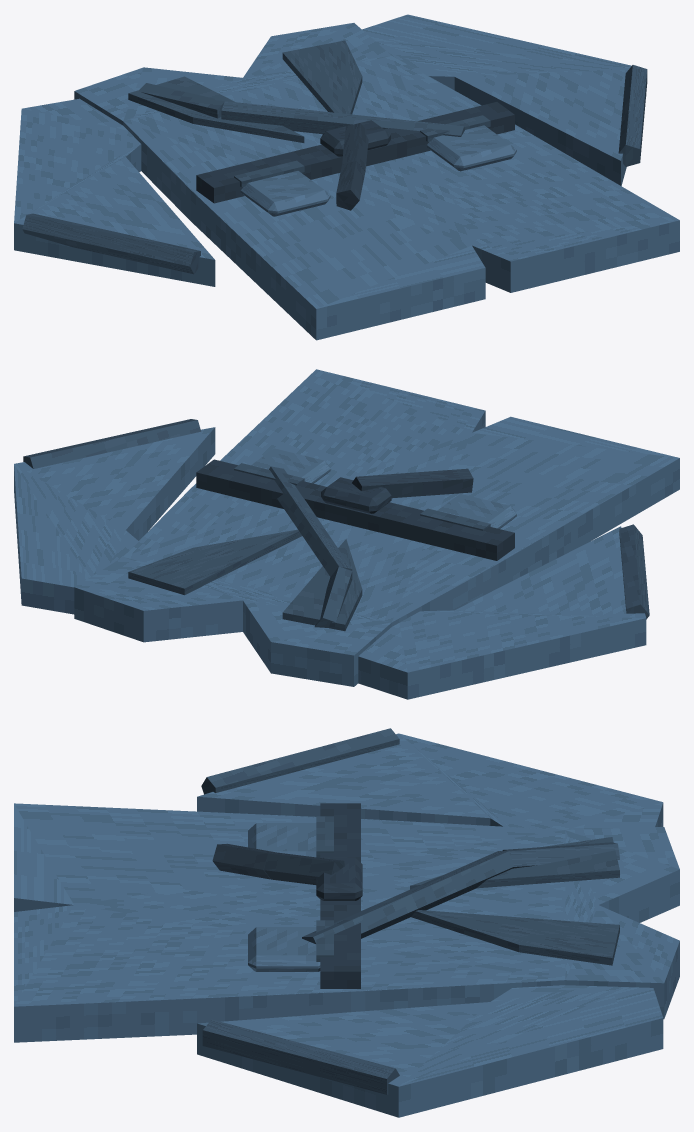
The model's file is yukata.glb.
3 renders of one model, top to bottom at view 1: azimuth 30°, elevation 25°; view 2: azimuth 150°, elevation 25°; view 3: azimuth 270°, elevation 25°, orthographic. The views are drawn at different scales.
Parts seen in each view (by area): view 1: block_coat body, block_sleeve (×2), block_lapel (×2), block_cuff 0 (×2), block_tied sash, block_patch pocket (×2), block_crossed lapel 1, block_pocket welt (×2), block_crossed lapel 0, block_sash knot, block_sash ends 1, block_sash ends 0; view 2: block_coat body, block_sleeve (×2), block_tied sash, block_lapel (×2), block_cuff 0 (×2), block_patch pocket (×2), block_crossed lapel 1, block_sash knot, block_sash ends 0, block_sash ends 1, block_crossed lapel 0, block_pocket welt (×2); view 3: block_coat body, block_sleeve (×2), block_lapel (×2), block_cuff 0 (×2), block_patch pocket (×2), block_crossed lapel 1, block_tied sash, block_sash ends 0, block_crossed lapel 0, block_sash knot, block_sash ends 1, block_pocket welt.
Part boxes in pixels (left/top/right/bottom): block_coat body: left=74, top=23, right=679, bottom=340; block_sleeve (×2): left=14, top=14, right=646, bottom=286; block_lapel (×2): left=128, top=40, right=362, bottom=142; block_cuff 0 (×2): left=22, top=65, right=647, bottom=274; block_tied sash: left=196, top=102, right=514, bottom=203; block_patch pocket (×2): left=240, top=125, right=516, bottom=216; block_crossed lapel 1: left=221, top=101, right=465, bottom=136; block_pocket welt (×2): left=234, top=115, right=490, bottom=187; block_crossed lapel 0: left=138, top=83, right=224, bottom=118; block_sash knot: left=320, top=120, right=390, bottom=156; block_sash ends 1: left=336, top=161, right=365, bottom=210; block_sash ends 0: left=342, top=123, right=368, bottom=171; block_coat body: left=74, top=369, right=679, bottom=686; block_sleeve (×2): left=14, top=427, right=646, bottom=699; block_tied sash: left=196, top=459, right=514, bottom=560; block_lapel (×2): left=128, top=529, right=362, bottom=631; block_cuff 0 (×2): left=23, top=419, right=649, bottom=619; block_patch pocket (×2): left=251, top=448, right=516, bottom=528; block_crossed lapel 1: left=269, top=466, right=352, bottom=576; block_sash knot: left=321, top=477, right=391, bottom=513; block_sash ends 0: left=352, top=472, right=423, bottom=498; block_sash ends 1: left=418, top=468, right=473, bottom=495; block_crossed lapel 0: left=314, top=566, right=352, bottom=627; block_pocket welt (×2): left=234, top=463, right=490, bottom=530; block_coat body: left=14, top=803, right=679, bottom=1042; block_sleeve (×2): left=197, top=733, right=663, bottom=1117; block_lapel (×2): left=410, top=837, right=619, bottom=965; block_cuff 0 (×2): left=201, top=728, right=399, bottom=1094; block_patch pocket (×2): left=248, top=823, right=320, bottom=971; block_crossed lapel 1: left=302, top=851, right=514, bottom=943; block_tied sash: left=320, top=803, right=360, bottom=988; block_sash ends 0: left=264, top=852, right=344, bottom=884; block_crossed lapel 0: left=502, top=842, right=619, bottom=868; block_sash knot: left=316, top=857, right=362, bottom=900; block_sash ends 1: left=212, top=843, right=276, bottom=879; block_pocket welt: left=316, top=816, right=333, bottom=857.
Bounding box in the file's own units: 0.6851 × 0.0728 × 0.5456.
1 material, 1 textured.
